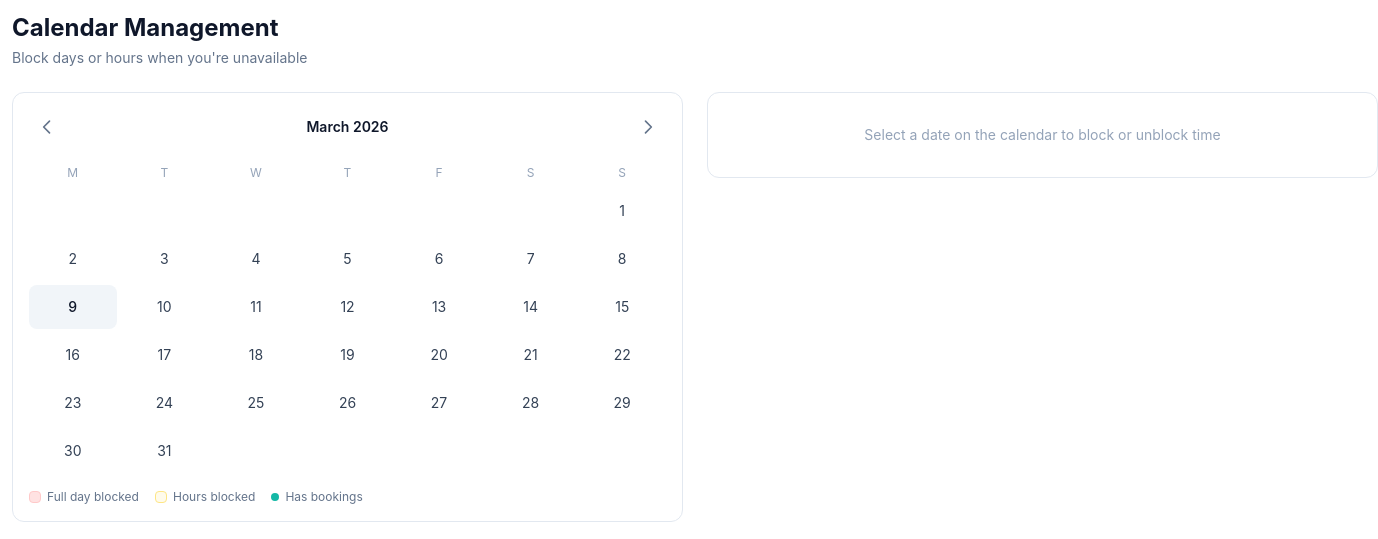
it: Calendar Page › shows time inputs when 'Specific Hours' mode is selected
Click the button "15" at [622, 307], box [578,285,666,329]
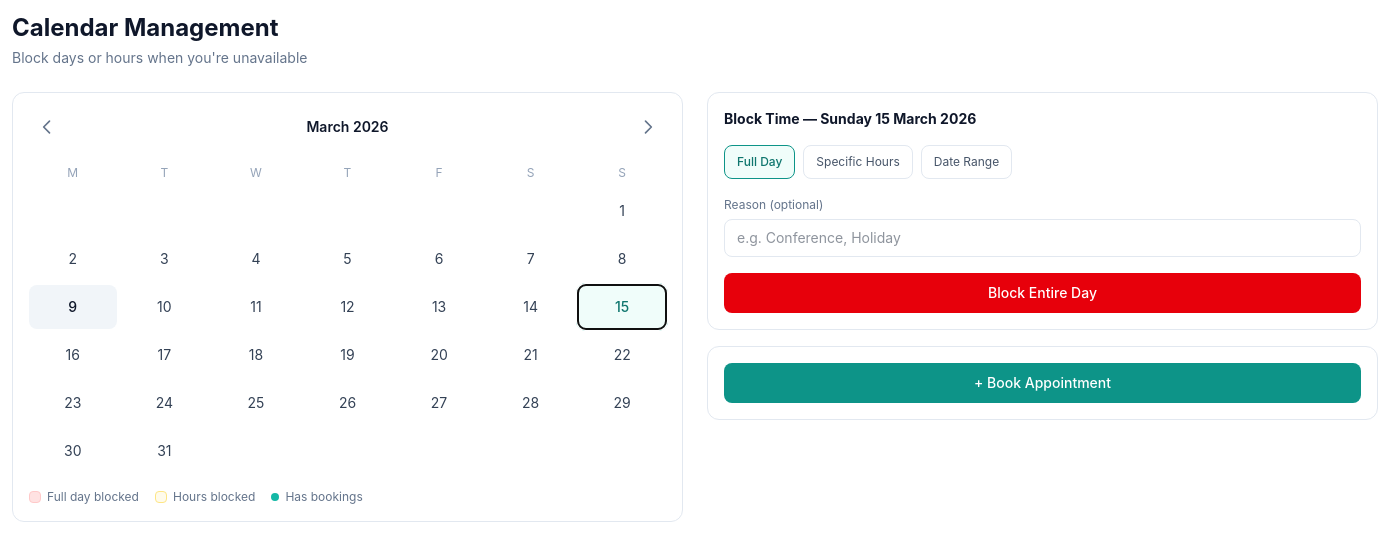
Click the button "Specific Hours" at [858, 162], box [803,145,913,179]
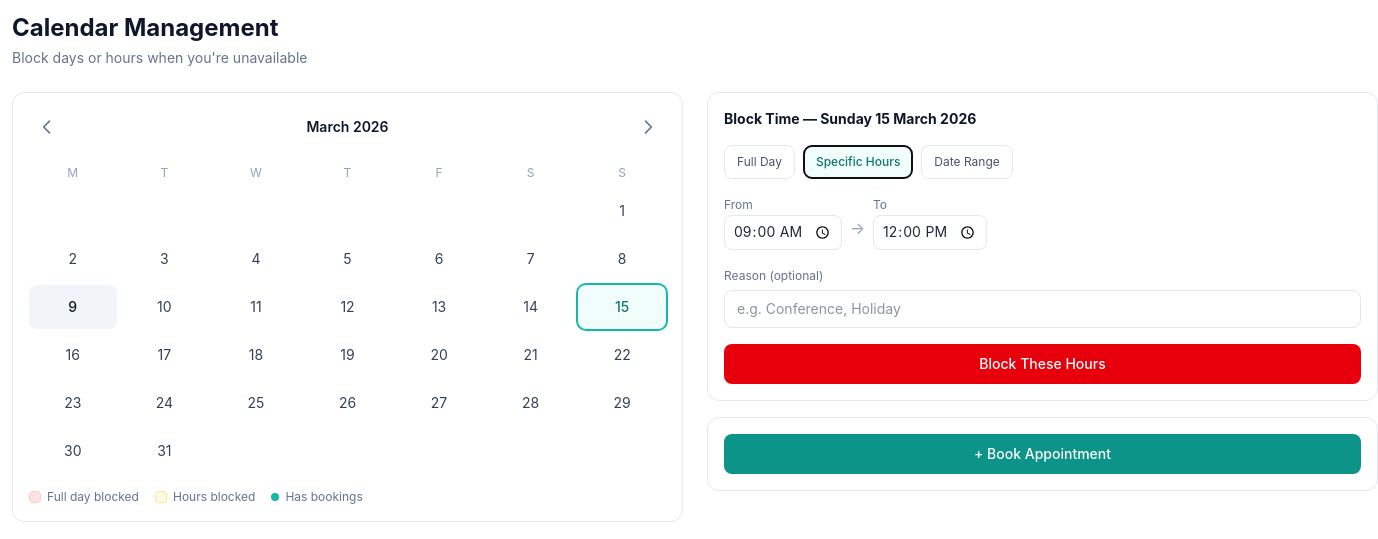
Now the text "From" is shown, box [724,197,753,212]
Now the text "To" is shown, box [873,197,887,212]
Now the button "Block These Hours" is shown, box [724,344,1361,384]
